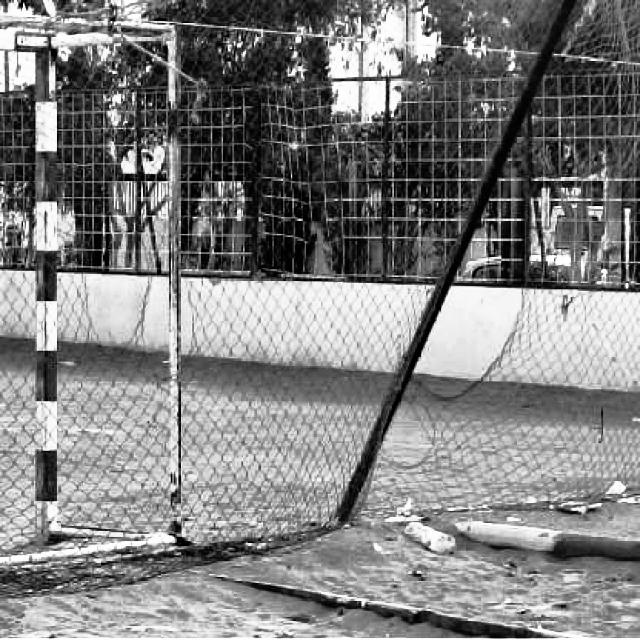anomaly-fence: (362, 169, 574, 479), (56, 176, 182, 362)
